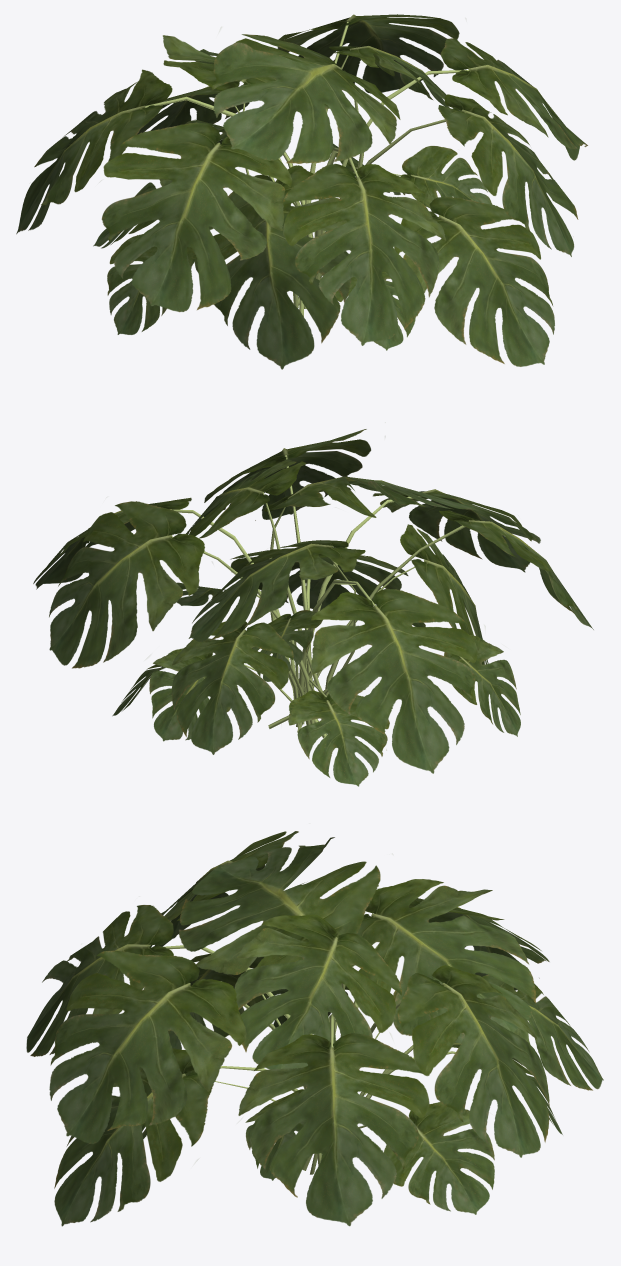
File: planta1.glb
3 renders of one model, top to bottom at view 1: azimuth 30°, elevation 25°; view 2: azimuth 150°, elevation 25°; view 3: azimuth 270°, elevation 25°, orthographic. The views are drawn at different scales.
Visible parts, largest first — view 1: leaves_tropical_plant_0, trunk_tropical_plant_0; view 2: leaves_tropical_plant_0, trunk_tropical_plant_0; view 3: leaves_tropical_plant_0, trunk_tropical_plant_0.
Boxes of the visible parts, left/top/right/bottom form: leaves_tropical_plant_0: left=16, top=14, right=587, bottom=369; trunk_tropical_plant_0: left=145, top=22, right=469, bottom=317; leaves_tropical_plant_0: left=33, top=429, right=593, bottom=786; trunk_tropical_plant_0: left=170, top=455, right=465, bottom=738; leaves_tropical_plant_0: left=26, top=831, right=603, bottom=1226; trunk_tropical_plant_0: left=163, top=937, right=455, bottom=1174.
Size of the model in its own units: 1.59 by 0.8146 by 1.4.
Materials: 1 (1 with a texture image).
